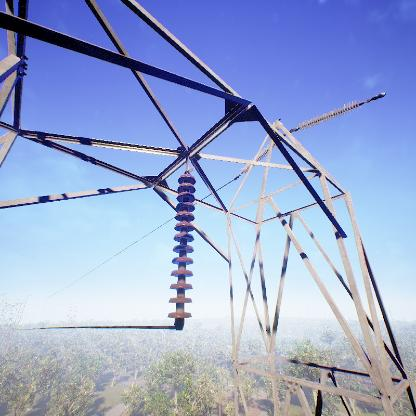insulator: (167, 173, 197, 329), (297, 99, 362, 133)
